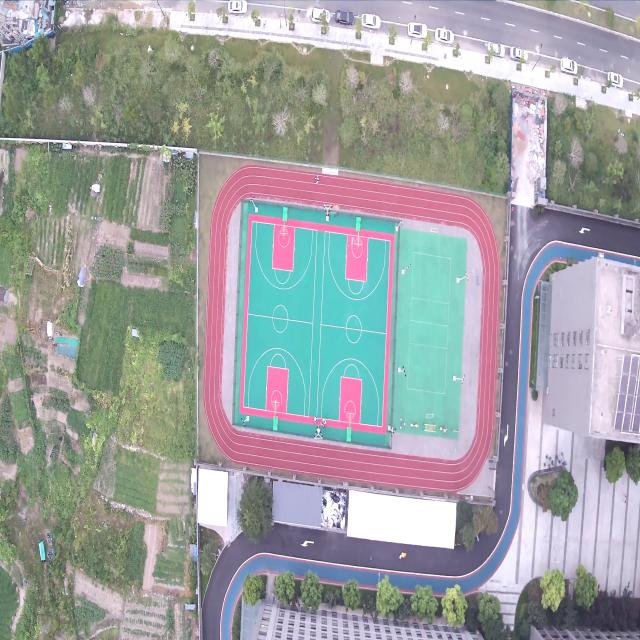drone: (348, 235, 355, 249)
